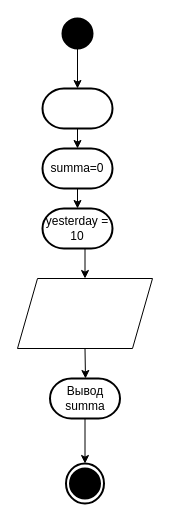
Some shapes in this 170 by 521 pixel diagram are drawn without their labels. Here are the shapes that lost their labels. From the top down, the centre of each, then its label:
At pixel 77 108: "d=7".
At pixel 84 313: "for i in range(d): summa += yesterday yesterday += yesterday / 10".
